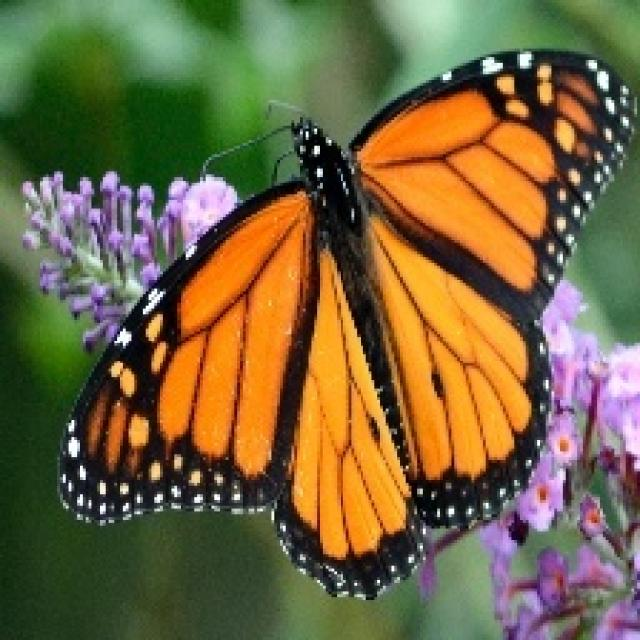butterfly: (54, 46, 637, 600)
